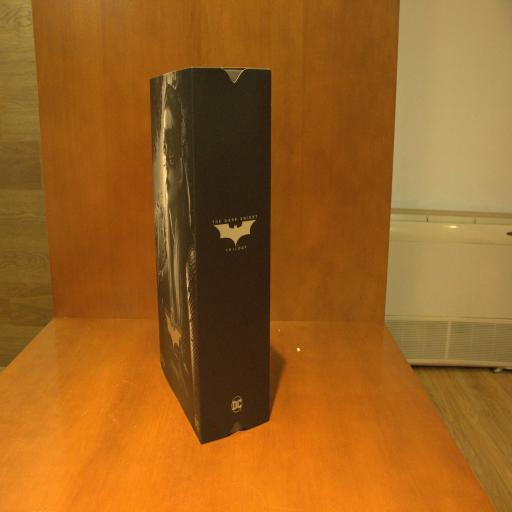catwoman: (150, 67, 272, 444)
